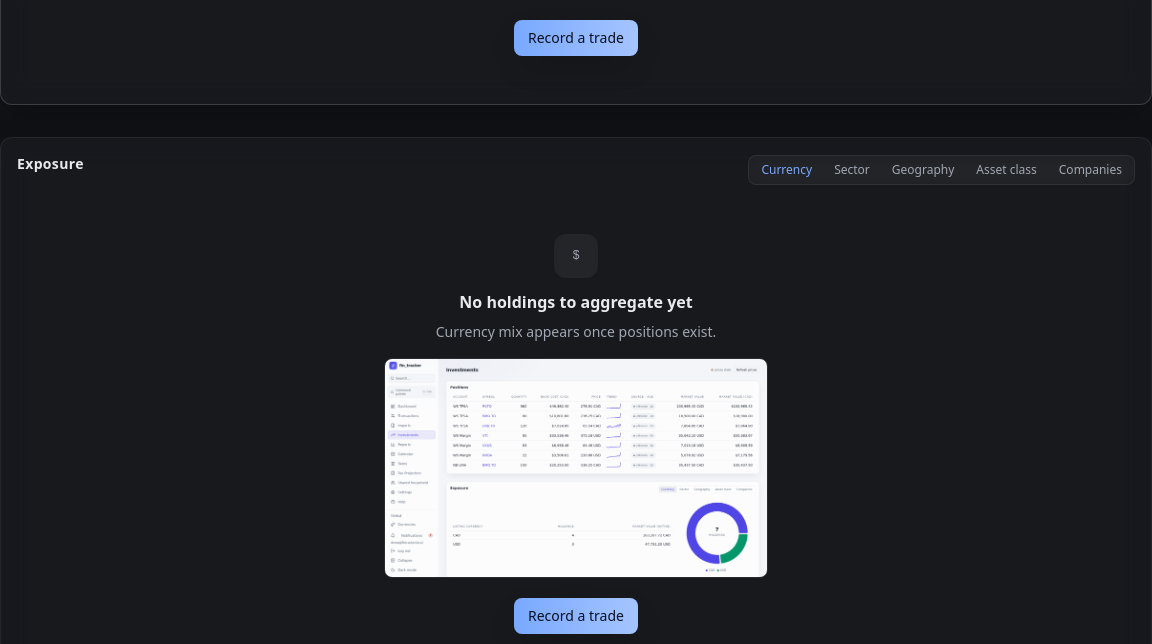
Test: M167 — top 8 + Other, then the full list inline › collapses to the top 8 countries with an Other row that owns the tail
(page scrolled)
What coordinates should you click on to do the following:
click the tab "Geography"
I would click on:
 (923, 170)
Its box is x1=882 y1=158 x2=964 y2=182.
(page scrolled)
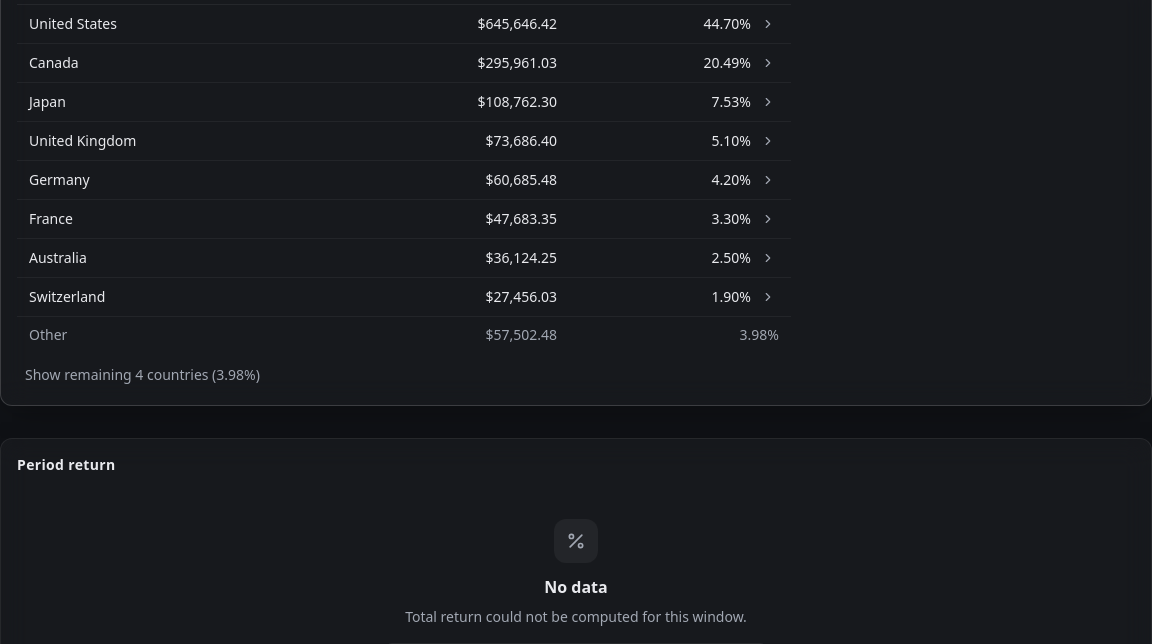
expect the row "Other $57,502.48 3.98%" is shown: met, box x1=17 y1=317 x2=791 y2=353
